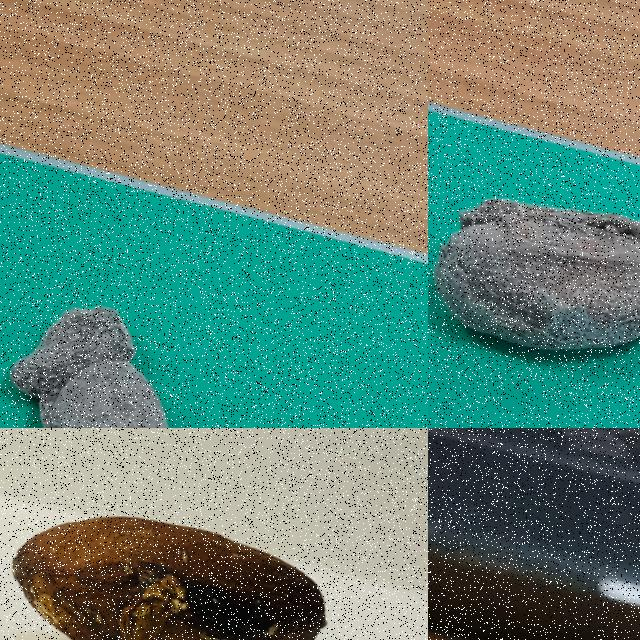Agglomerated_cocoabeans: (428, 107, 639, 427), (0, 246, 287, 427)
Fine_cocoabeans: (0, 472, 344, 639)
